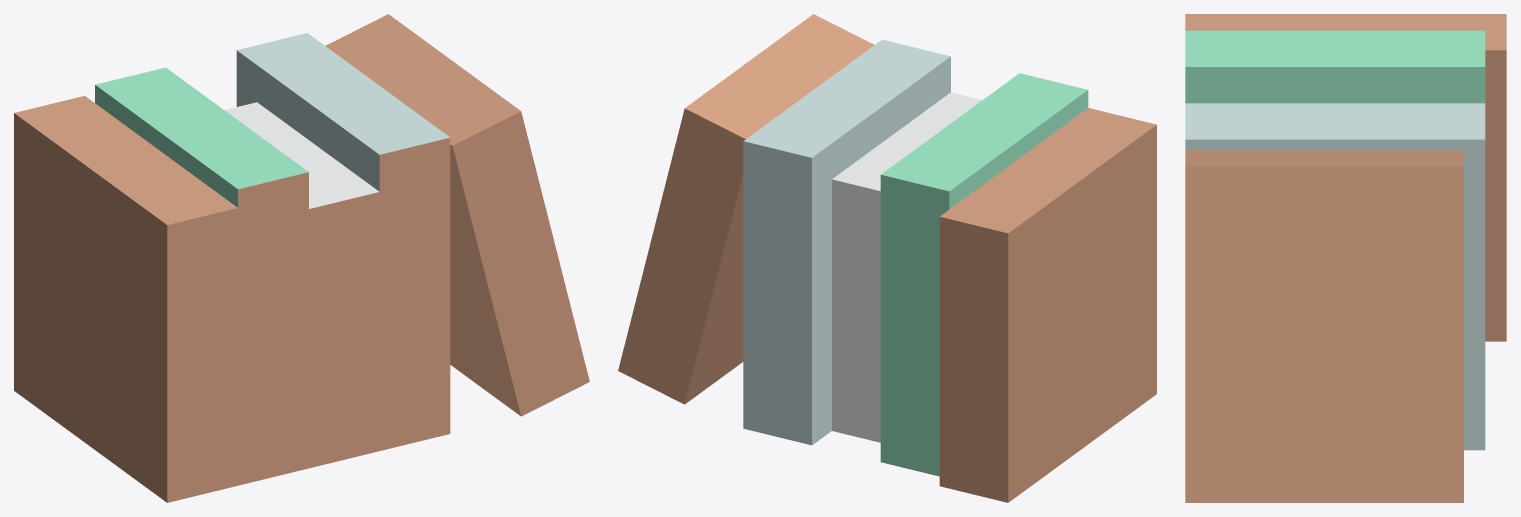
Rendered from books.glb.
The picture shows the model from 3 angles, left to right: view 1: azimuth 30°, elevation 25°; view 2: azimuth 150°, elevation 25°; view 3: azimuth 270°, elevation 25°; orthographic projection. The views are drawn at different scales.
Visible parts, largest first — view 1: books; view 2: books; view 3: books.
Part boxes in pixels (x1,y1,x2,y2): books: (14,14,589,502); books: (618,14,1156,502); books: (1185,14,1506,502).
Size of the model in its own units: 1.5 by 1.04 by 0.945.
